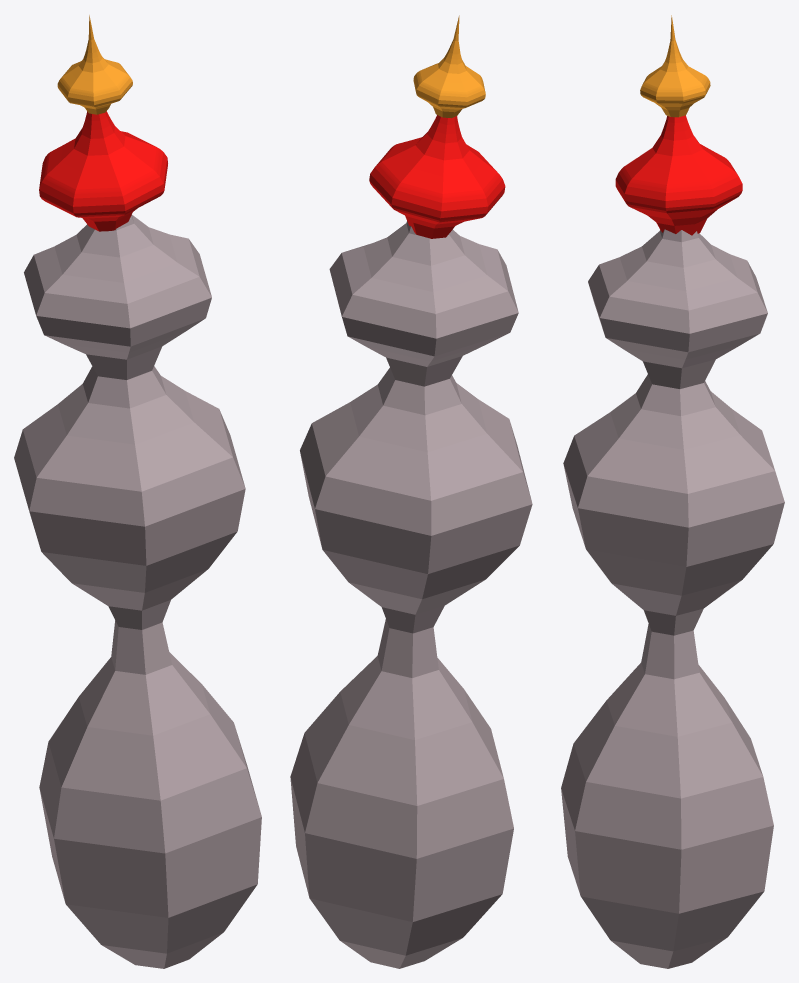
Rendered from BlobbySpire.obj.
3 views of the same model, side by side, from view 1: azimuth 30°, elevation 25°; view 2: azimuth 150°, elevation 25°; view 3: azimuth 270°, elevation 25° (orthographic). The views are drawn at different scales.
Visible parts, largest first — view 1: FlareTOWER.001; view 2: FlareTOWER.001; view 3: FlareTOWER.001.
Part boxes in pixels (x1,y1,x2,y2): FlareTOWER.001: (14, 15, 261, 968); FlareTOWER.001: (290, 15, 532, 968); FlareTOWER.001: (561, 15, 784, 968).
Size of the model in its own units: 1.52 by 6.06 by 1.35.
